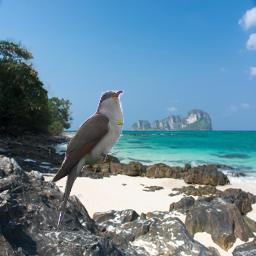Cuckoo: (51, 90, 124, 230)
